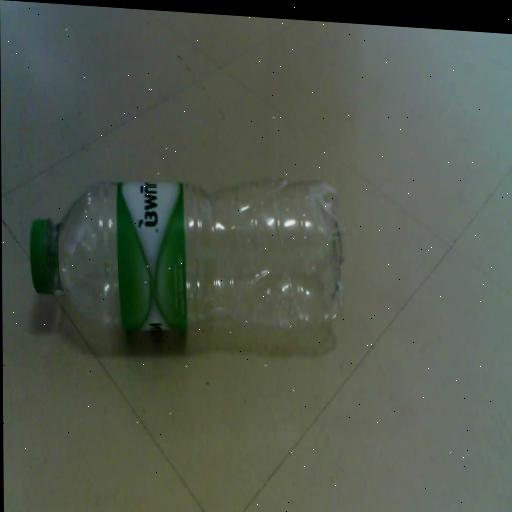bottle: (17, 134, 361, 389)
